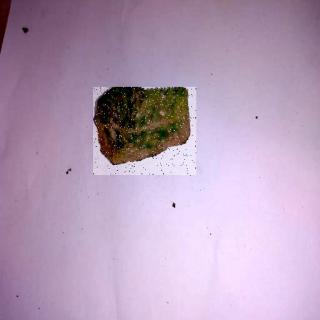Anthracnose: (94, 89, 197, 178)
